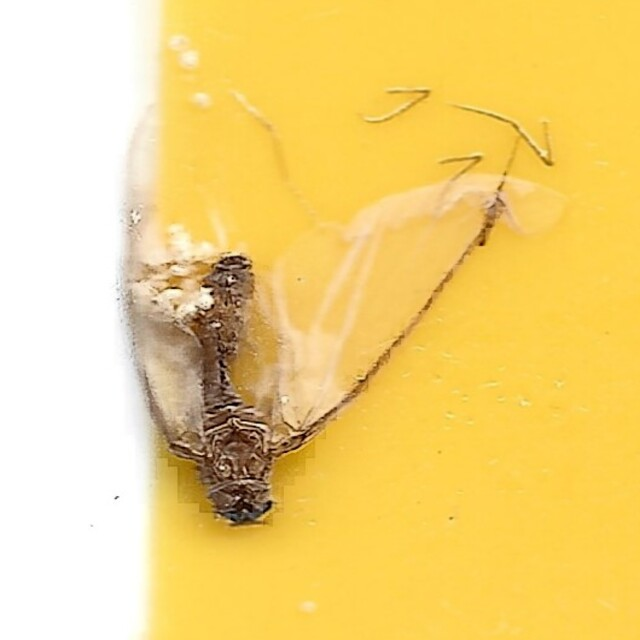Ephemeroptera: (121, 105, 519, 535)
